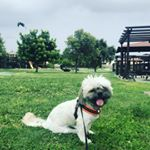puppy: (20, 72, 115, 146)
